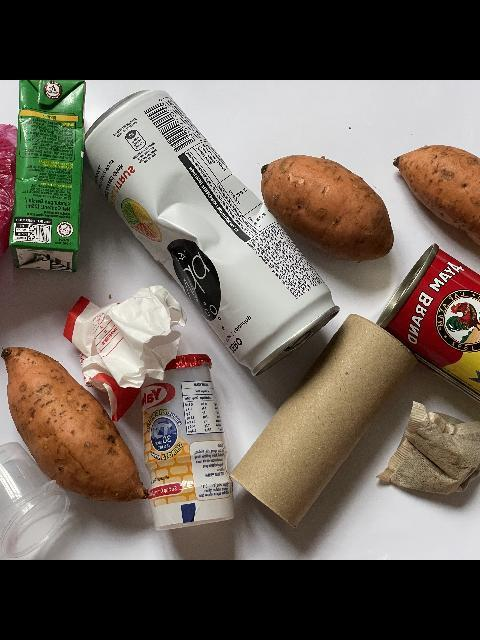drinkcan: (80, 89, 342, 378)
drinkpack: (7, 80, 81, 272)
paperbag: (61, 284, 188, 422)
plasticbag: (0, 108, 50, 290)
plasticbottle: (138, 352, 236, 532)
plasticcontainer: (0, 440, 69, 559)
sweetpotato: (0, 345, 147, 505), (260, 154, 394, 260), (390, 143, 480, 284)
teabag: (374, 398, 480, 496)
tissueroll: (227, 314, 416, 530)
